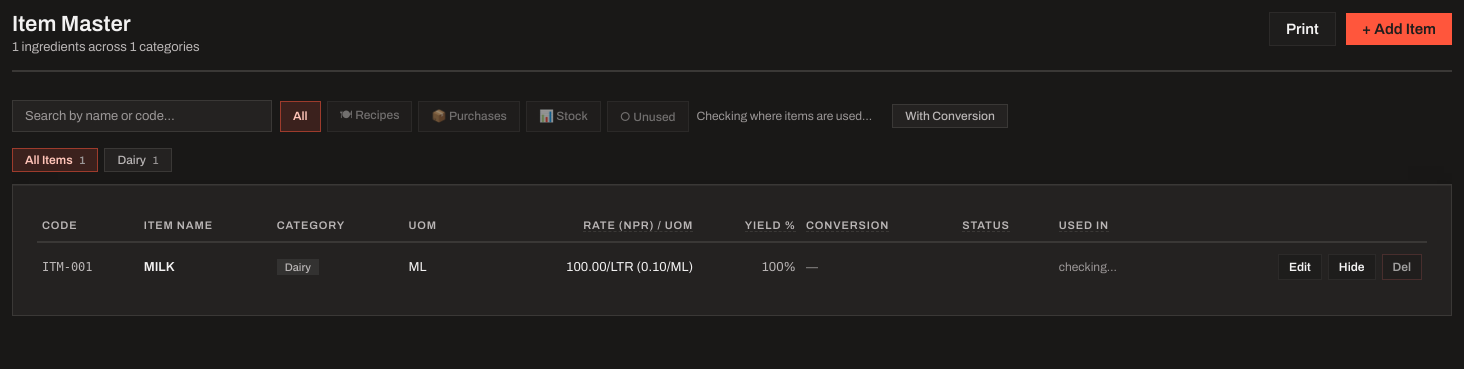
the list paints while the usage counts have not answered, and Del refuses without a failure banner
The width and height of the screenshot is (1464, 369).
Expected: the text "MILK" is shown, [139, 242, 272, 291]
Expected: the text "checking…" is shown, [1059, 260, 1117, 274]
Click the button with aria-label "Delete MILK" at {"x": 1402, "y": 267}, box [1382, 254, 1422, 280]
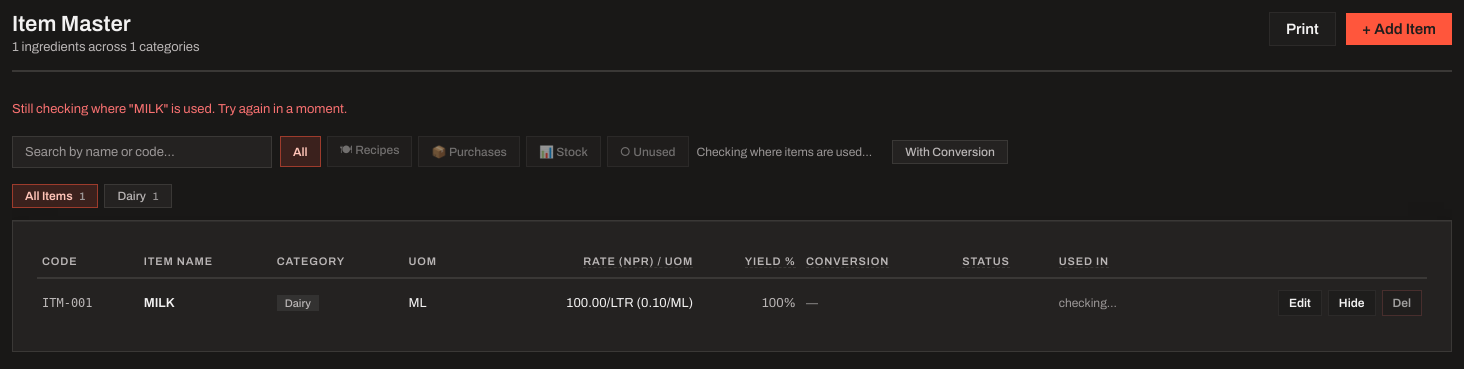
Result: the text "Still checking where \"MILK\" is used. Try again in a moment." is shown at [12, 102, 348, 116]
